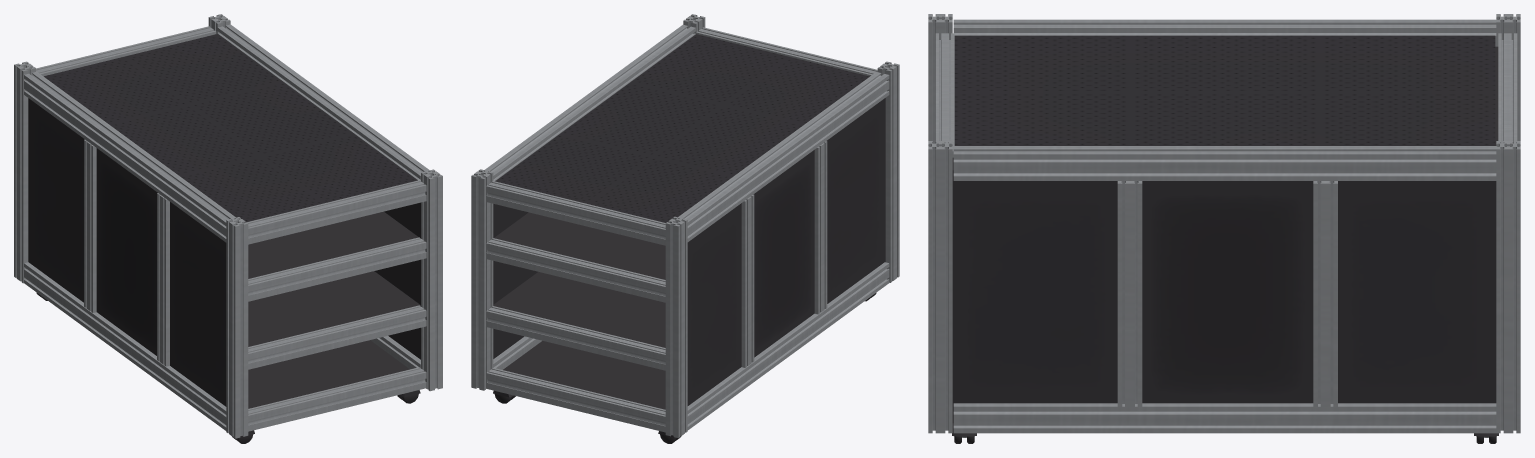
File: TableB.FBX
3 renders of one model, left to right at view 1: azimuth 30°, elevation 25°; view 2: azimuth 150°, elevation 25°; view 3: azimuth 270°, elevation 25°, orthographic. The views are drawn at different scales.
Visible parts, largest first — view 1: TableB; view 2: TableB; view 3: TableB.
Boxes of the visible parts, box(x1,y1,x2,y2) form: TableB: box(14, 14, 442, 443); TableB: box(471, 14, 899, 443); TableB: box(928, 14, 1520, 443).
Bounding box in the file's own units: 1.07 × 1.98 × 1.13.
Materials: 1 (1 with a texture image).
